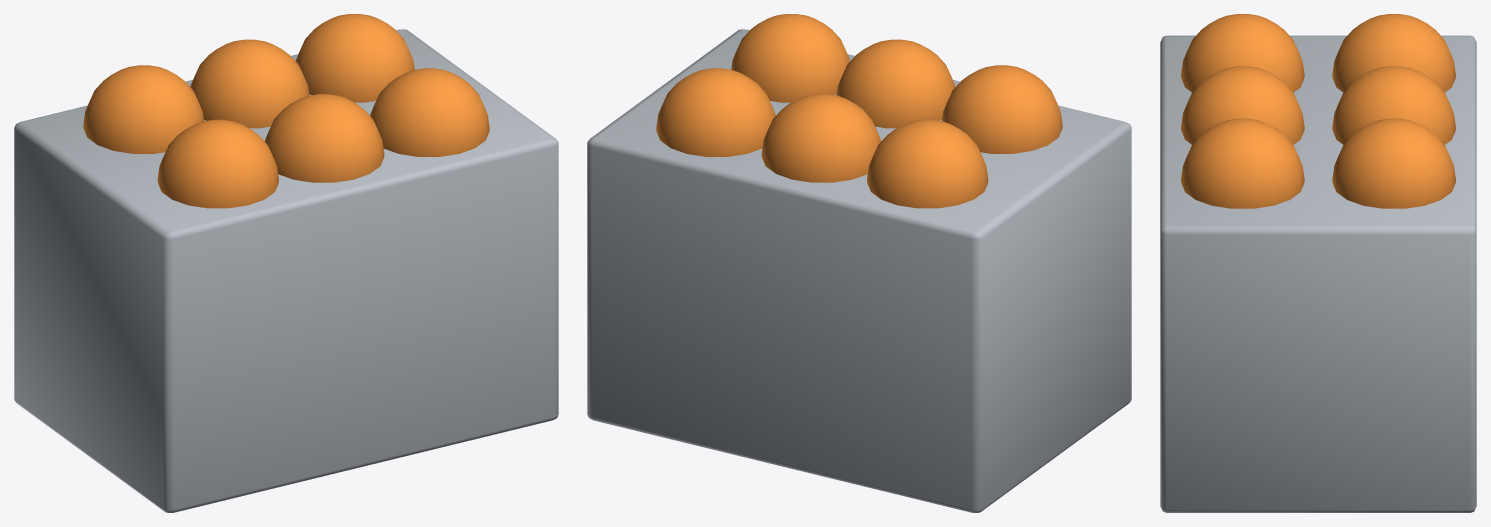
The model's file is SM_Gym_BallCart.fbx.
3 renders of one model, left to right at view 1: azimuth 30°, elevation 25°; view 2: azimuth 150°, elevation 25°; view 3: azimuth 270°, elevation 25°, orthographic.
Parts seen in each view (by area): view 1: SM_Gym_BallCart; view 2: SM_Gym_BallCart; view 3: SM_Gym_BallCart.
Part boxes in pixels (box(x1,y1,x2,y2)): SM_Gym_BallCart: box(14, 14, 558, 512); SM_Gym_BallCart: box(587, 14, 1131, 512); SM_Gym_BallCart: box(1160, 14, 1476, 512).
Size of the model in its own units: 1.35 by 1.11 by 0.92.
